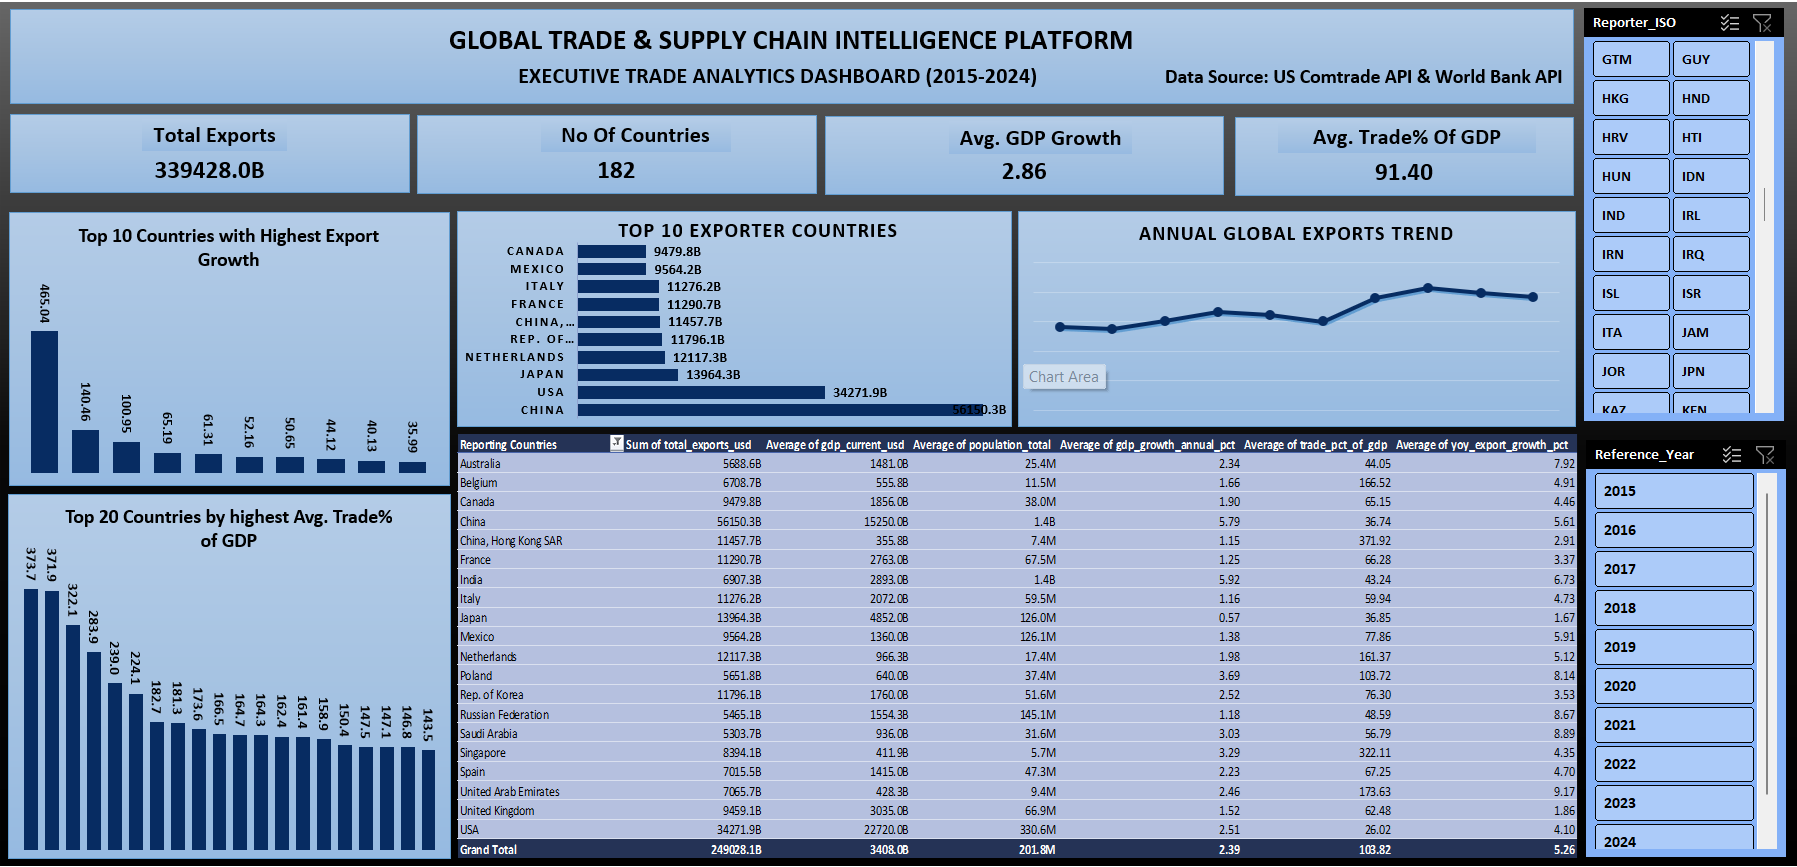

What the dashboard file says about the page in this screenshot:
{"tool":"powerbi","page":{"name":"Executive Overview Dashboard","canvas":[1280,720],"ordinal":0},"visuals":[{"type":"group","id":"g1","title":"Group 4","box":[8.8,8.4,1261.2,702],"z":0,"group":"g5"},{"type":"group","id":"g2","title":"Group 2","box":[8.8,8.4,1260,702],"z":0,"group":"g1"},{"type":"textbox","box":[8.8,8.4,752.5,101.2],"z":1000,"group":"g4"},{"type":"actionButton","box":[710,55.9,45,45],"z":1000,"group":"g5"},{"type":"group","id":"g3","title":"Group 3","box":[238.8,133.4,1031.2,576.2],"z":1000,"group":"g1"},{"type":"cardVisual","title":"Total Exports","fields":{"Data":["DAX_Measures.Total_Export_Value"]},"box":[8.8,133.8,202,100],"z":2000,"group":"g2"},{"type":"cardVisual","title":"Avg. Trade % of GDP","fields":{"Data":["DAX_Measures.Avg_Trade_Percent_Of_GDP"]},"box":[8.8,491.3,203.2,100],"z":3000,"group":"g2"},{"type":"cardVisual","title":"Total Population","fields":{"Data":["DAX_Measures.Avg_Population"]},"box":[8.8,372.1,202,100],"z":4000,"group":"g2"},{"type":"cardVisual","title":"Avg. GDP Growth %","fields":{"Data":["DAX_Measures.Avg_GDP_Growth"]},"box":[8.8,610.4,203.8,100],"z":5000,"group":"g2"},{"type":"cardVisual","title":"Avg. GDP","fields":{"Data":["DAX_Measures.Avg_GDP"]},"box":[8.8,253,203.2,100],"z":6000,"group":"g2"},{"type":"lineChart","title":"GLOBAL EXPORTS TREND","fields":{"Category":["vw_dashboard_dataset.reference_year"],"Y":["Sum(vw_dashboard_dataset.total_exports_usd)"]},"box":[238.8,133.4,573.8,297.5],"z":7000,"group":"g3"},{"type":"clusteredBarChart","title":"Top 10 Exporting Countries","fields":{"Category":["vw_dashboard_dataset.reporter_name"],"Y":["Sum(vw_dashboard_dataset.total_exports_usd)"]},"box":[826.3,135.9,443.8,295],"z":8000,"group":"g3"},{"type":"scatterChart","title":"GDP vs Export Performance","fields":{"X":["Sum(vw_dashboard_dataset.gdp_current_usd)"],"Y":["Sum(vw_dashboard_dataset.total_exports_usd)"],"Size":["Sum(vw_dashboard_dataset.population_total)"]},"box":[238.8,445.9,573.8,263.8],"z":9000,"group":"g3"},{"type":"clusteredColumnChart","title":"Exports by Global Ranking","fields":{"Category":["vw_dashboard_dataset.global_export_rank"],"Y":["Sum(vw_dashboard_dataset.total_exports_usd)"]},"box":[826.3,445.9,443.8,263.8],"z":10000,"group":"g3"},{"type":"slicer","title":"Country","fields":{"Values":["DimCountry.reporter_name"]},"box":[1028.8,8.4,240,101.2],"z":11000,"group":"g4"},{"type":"slicer","title":"Year","fields":{"Values":["DimYear.reference_year"]},"box":[778.8,8.4,232.5,106.2],"z":12000,"group":"g4"},{"type":"group","id":"g4","title":"Group 1","box":[8.8,8.4,1260,106.2],"z":12001,"group":"g2"},{"type":"group","id":"g5","title":"Group 5","box":[8.8,8.4,1260.9,701.1],"z":12006}]}

Visuals, with their boxes on the page's 1280x720 design canvas (x1, y1, x2, y2). These are canvas units, not pixel positions in the 1797x867 screenshot, which may show the page scaled, cropped or inside an application window:
"Group 4" group: select_region(9, 8, 1270, 710)
"Group 2" group: select_region(9, 8, 1269, 710)
textbox: select_region(9, 8, 761, 110)
actionButton: select_region(710, 56, 755, 101)
"Group 3" group: select_region(239, 133, 1270, 710)
"Total Exports" cardVisual: select_region(9, 134, 211, 234)
"Avg. Trade % of GDP" cardVisual: select_region(9, 491, 212, 591)
"Total Population" cardVisual: select_region(9, 372, 211, 472)
"Avg. GDP Growth %" cardVisual: select_region(9, 610, 213, 710)
"Avg. GDP" cardVisual: select_region(9, 253, 212, 353)
"GLOBAL EXPORTS TREND" lineChart: select_region(239, 133, 813, 431)
"Top 10 Exporting Countries" clusteredBarChart: select_region(826, 136, 1270, 431)
"GDP vs Export Performance" scatterChart: select_region(239, 446, 813, 710)
"Exports by Global Ranking" clusteredColumnChart: select_region(826, 446, 1270, 710)
"Country" slicer: select_region(1029, 8, 1269, 110)
"Year" slicer: select_region(779, 8, 1011, 115)
"Group 1" group: select_region(9, 8, 1269, 115)
"Group 5" group: select_region(9, 8, 1270, 710)
